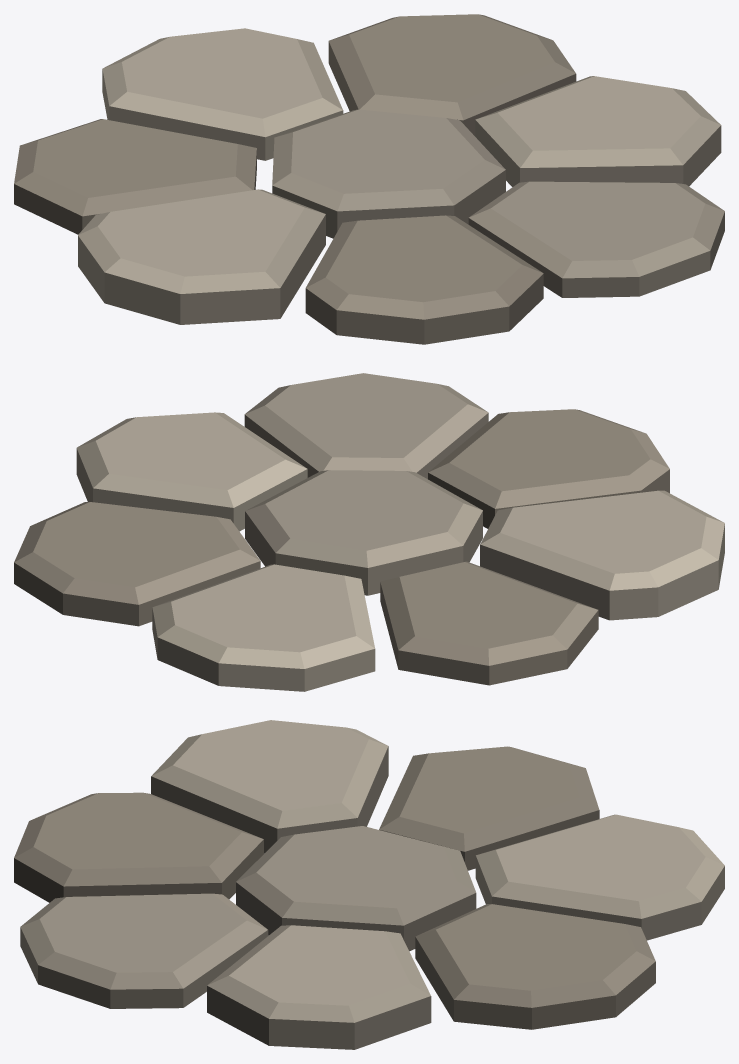
Rendered from flagstones.glb.
The picture shows the model from 3 angles, top to bottom: view 1: azimuth 30°, elevation 25°; view 2: azimuth 150°, elevation 25°; view 3: azimuth 270°, elevation 25°; orthographic projection. The views are drawn at different scales.
Parts seen in each view (by area): view 1: flagstones; view 2: flagstones; view 3: flagstones.
Part boxes in pixels (bbox=[...]): flagstones: bbox=[14, 14, 724, 344]; flagstones: bbox=[14, 373, 724, 691]; flagstones: bbox=[14, 720, 724, 1049].
Bounding box in the file's own units: 0.9944 × 0.061 × 1.
